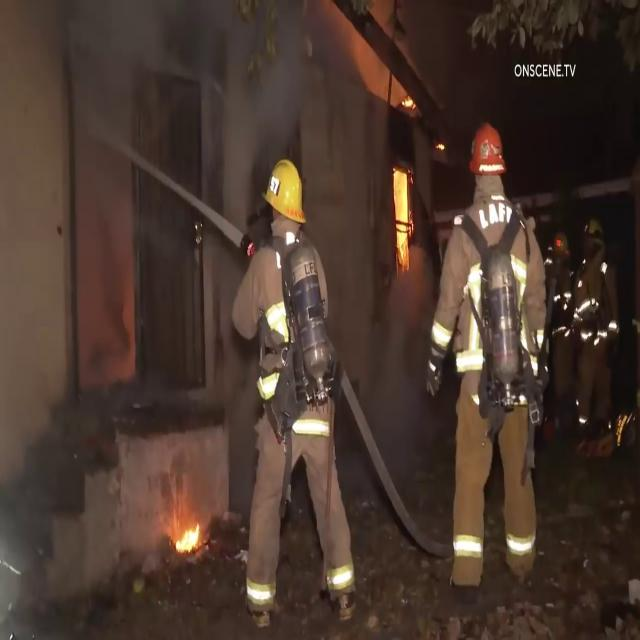Fire: (396, 170, 414, 286), (172, 520, 202, 566)
Smoke: (124, 8, 302, 144)
